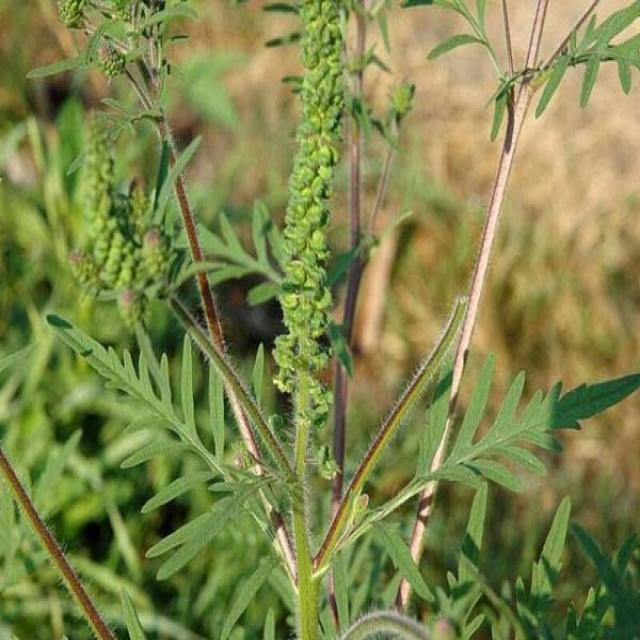ambrosia: (74, 318, 298, 620), (254, 1, 380, 450), (370, 305, 630, 509)
